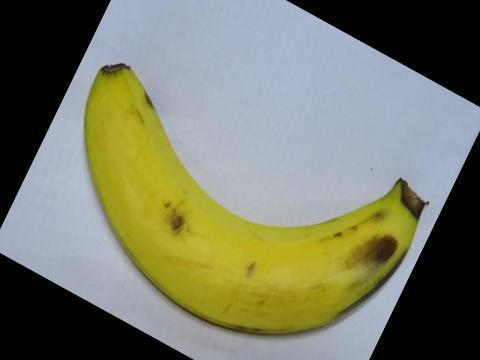freshripe: (69, 51, 439, 349)
